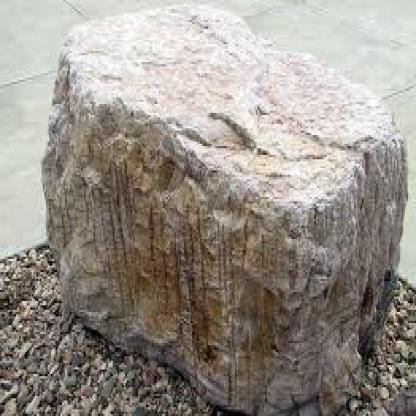Metamorphic_Quartize: (43, 11, 406, 414)
